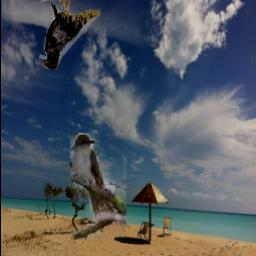Crow: (38, 0, 99, 69)
Cuckoo: (70, 134, 126, 241)
